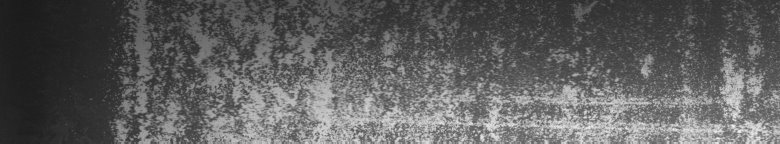kb: (104, 4, 776, 136)
